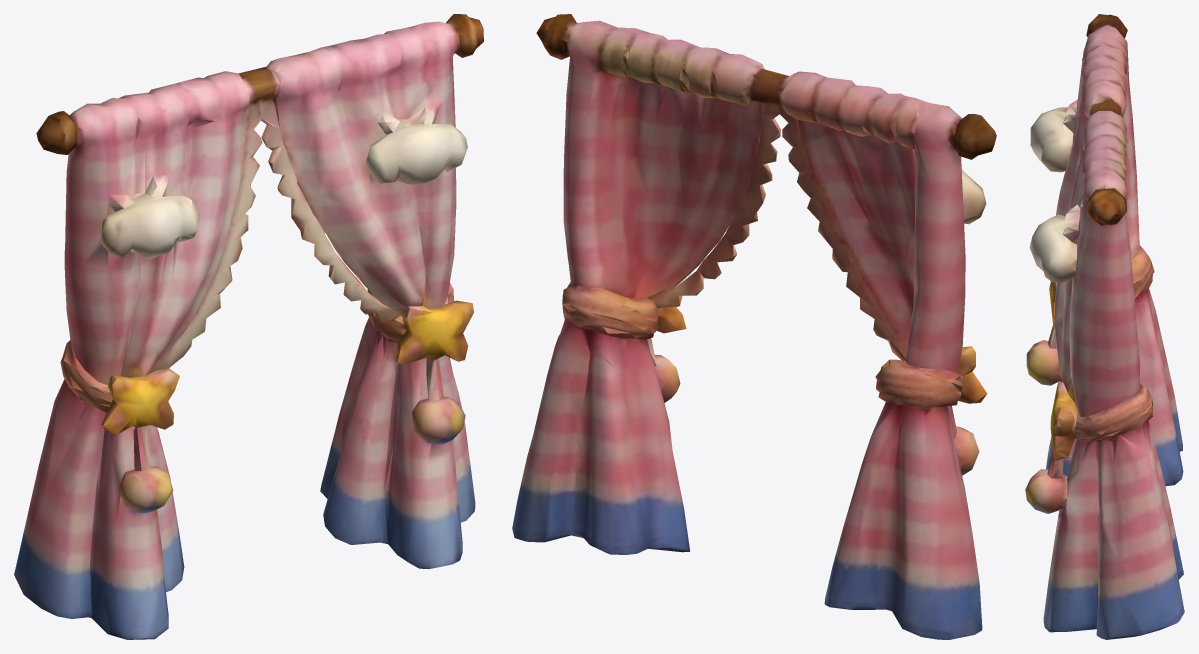
Rendered from curtain08.glb.
The picture shows the model from 3 angles, left to right: view 1: azimuth 30°, elevation 25°; view 2: azimuth 150°, elevation 25°; view 3: azimuth 270°, elevation 25°; orthographic projection. The views are drawn at different scales.
Bounding box in the file's own units: 0.2419 × 0.2668 × 0.0839.
1 material, 1 textured.
